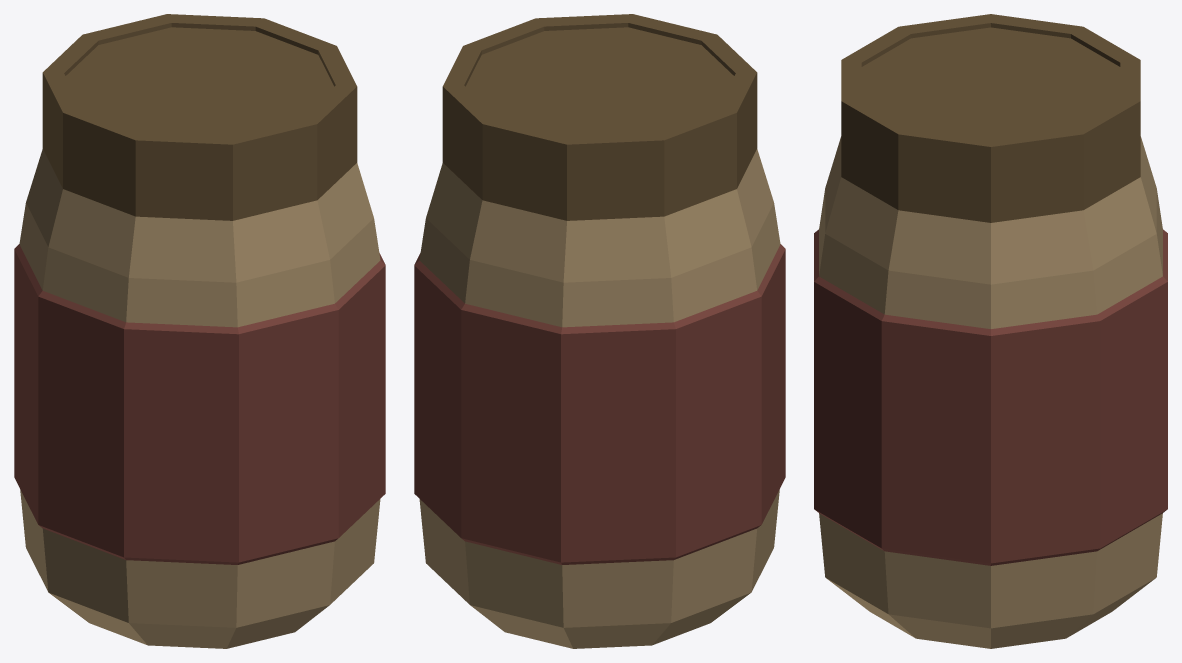
Rendered from PeanutButter.glb.
3 views of the same model, side by side, from view 1: azimuth 30°, elevation 25°; view 2: azimuth 150°, elevation 25°; view 3: azimuth 270°, elevation 25° (orthographic).
Visible parts, largest first — view 1: PaleRed, LightYellow, Brown; view 2: PaleRed, LightYellow, Brown; view 3: PaleRed, LightYellow, Brown.
Part boxes in pixels (x1,y1,x2,y2): PaleRed: (14,244,385,564); LightYellow: (19,149,380,648); Brown: (42,14,357,220); PaleRed: (414,244,785,564); LightYellow: (419,149,780,648); Brown: (442,14,757,220); PaleRed: (814,229,1167,565); LightYellow: (819,136,1162,648); Brown: (841,14,1140,222).
Bounding box in the file's own units: 0.4746 × 0.7243 × 0.4514.
